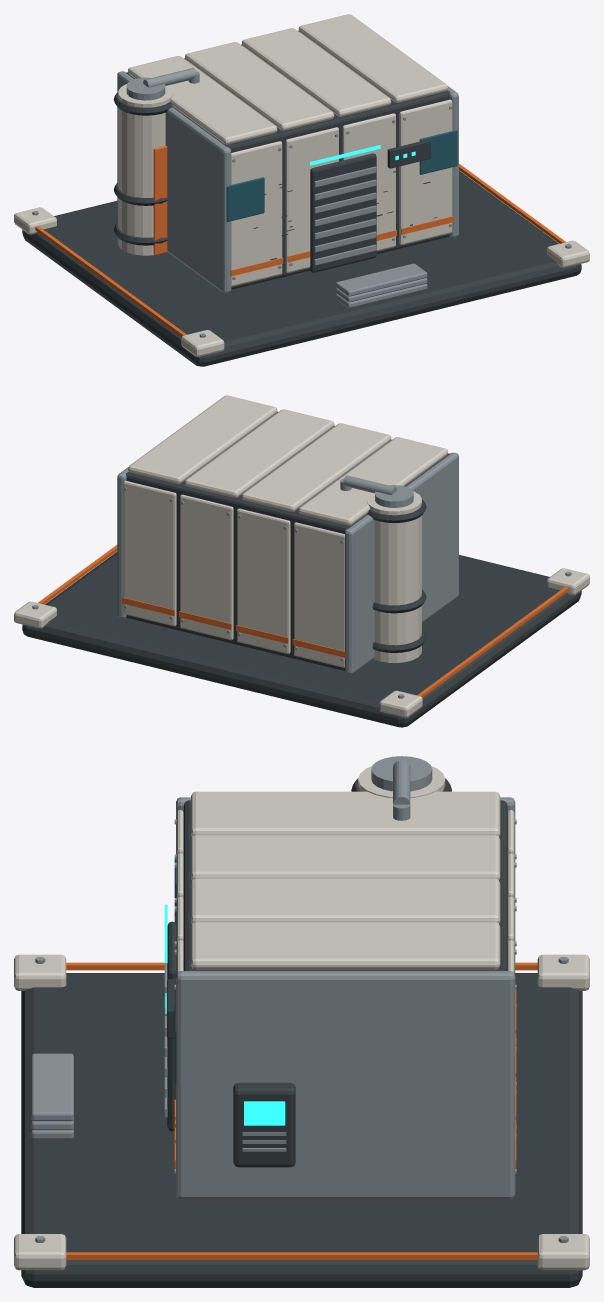
The model's file is SM_NavigationSystemsPlant_Body.fbx.
The picture shows the model from 3 angles, top to bottom: view 1: azimuth 30°, elevation 25°; view 2: azimuth 150°, elevation 25°; view 3: azimuth 270°, elevation 25°; orthographic projection. The views are drawn at different scales.
Parts seen in each view (by area): view 1: SM_NavigationSystemsPlant_Body; view 2: SM_NavigationSystemsPlant_Body; view 3: SM_NavigationSystemsPlant_Body.
Part boxes in pixels (x1,y1,x2,y2): SM_NavigationSystemsPlant_Body: [14, 14, 589, 366]; SM_NavigationSystemsPlant_Body: [14, 395, 589, 727]; SM_NavigationSystemsPlant_Body: [14, 756, 589, 1287].
Bounding box in the file's own units: 572 × 462 × 257.
